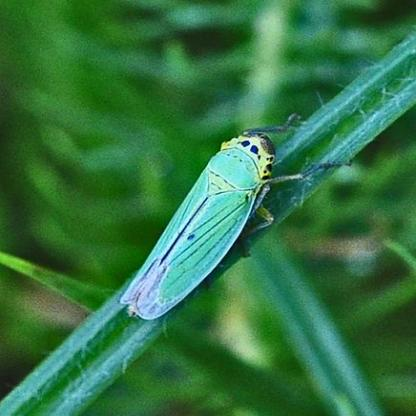Green-Leafhopper: (120, 114, 333, 322)
